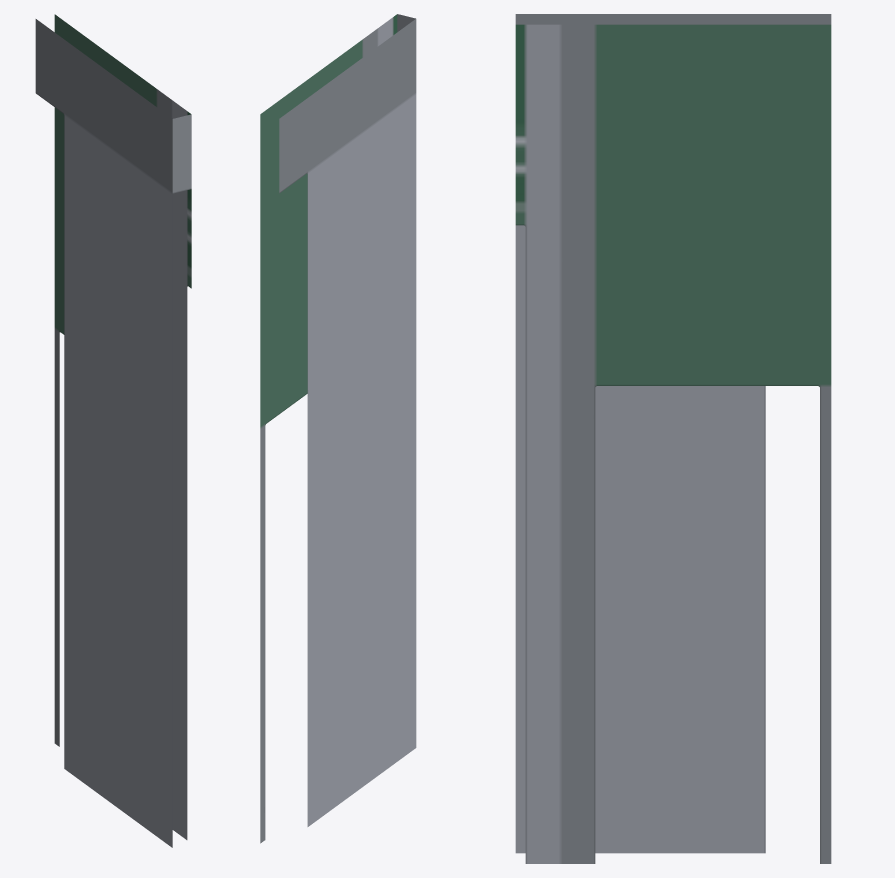
File: section-1.obj
3 views of the same model, side by side, from view 1: azimuth 30°, elevation 25°; view 2: azimuth 150°, elevation 25°; view 3: azimuth 270°, elevation 25° (orthographic). The views are drawn at different scales.
Size of the model in its own units: 0.027 by 1 by 0.4473.
